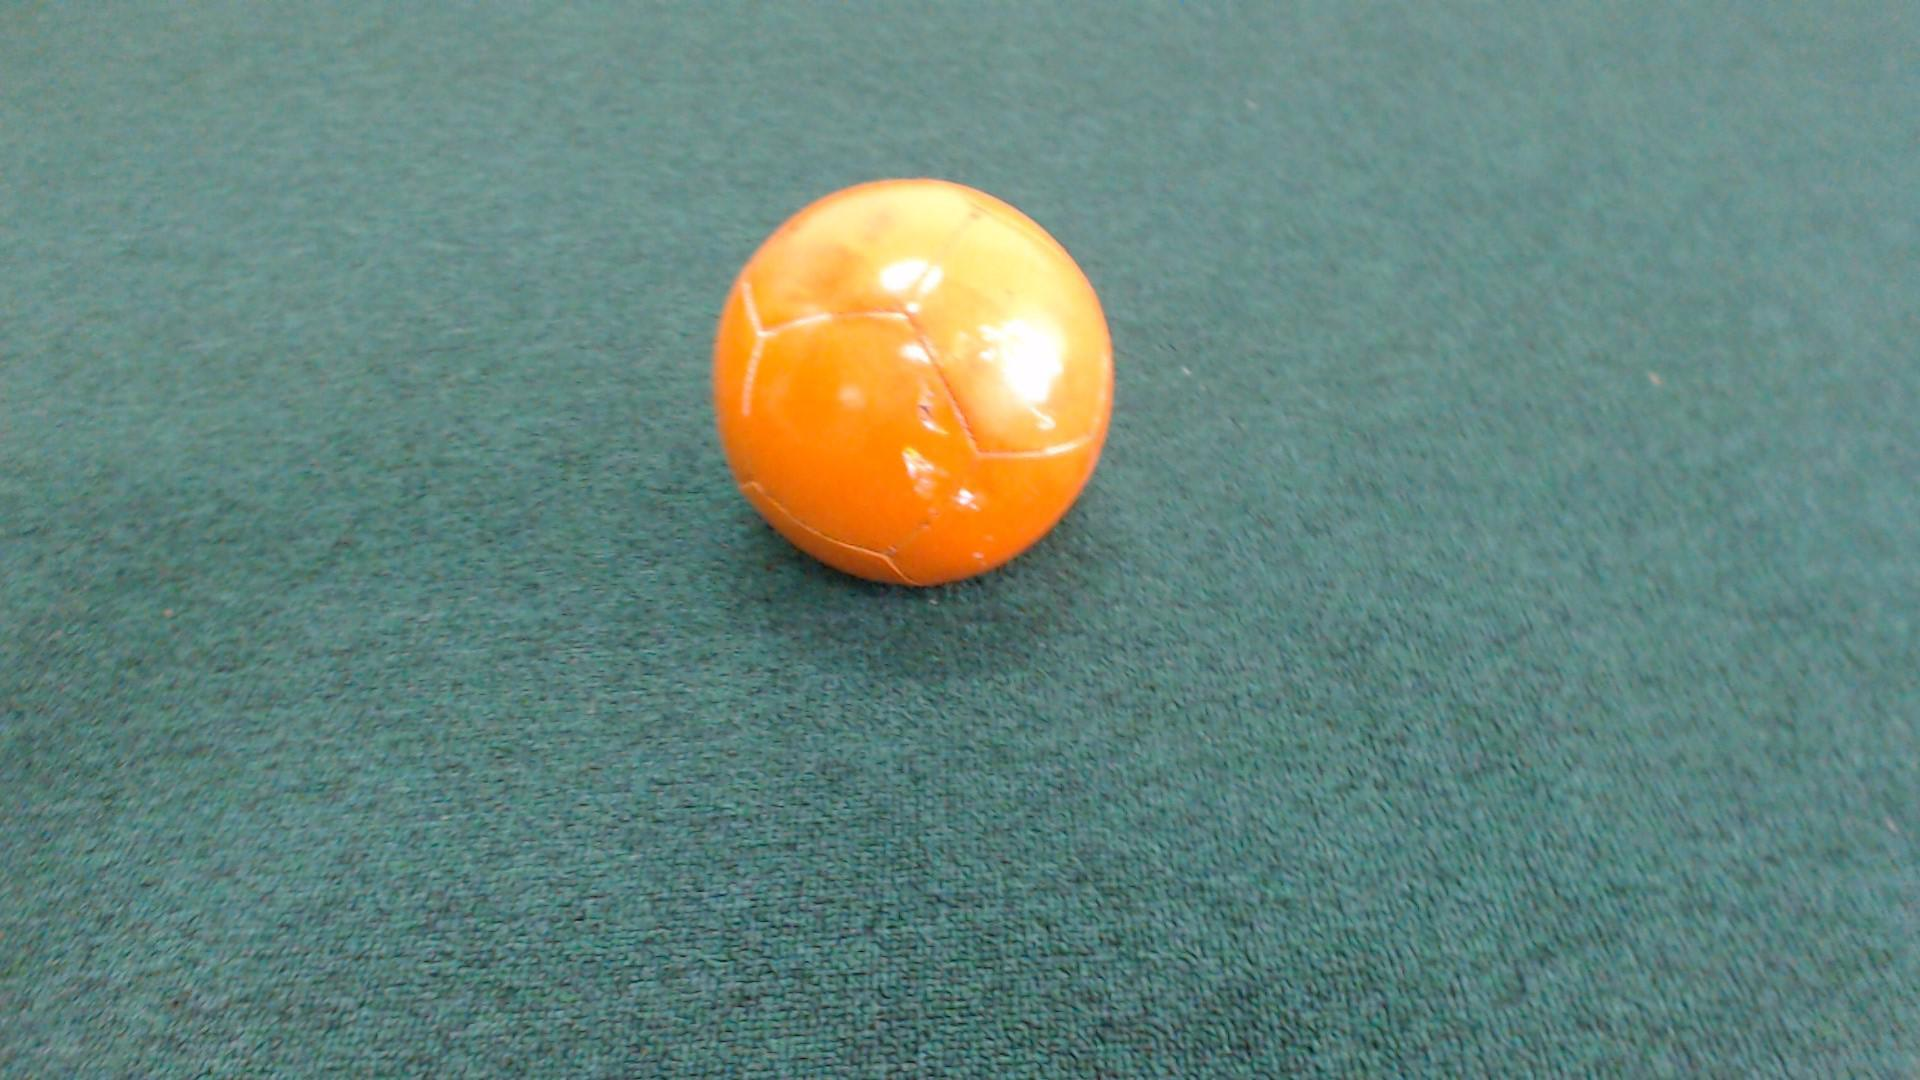bola: (699, 157, 1121, 600)
